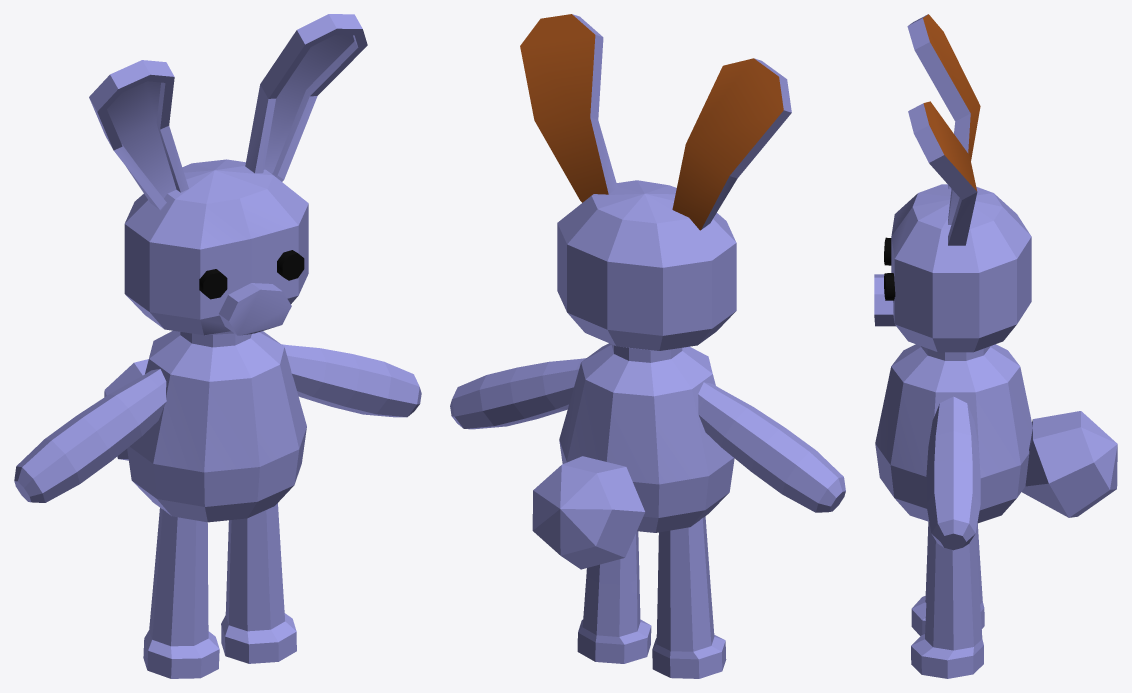
Rendered from Stuffed_Rabbit.fbx.
The picture shows the model from 3 angles, left to right: view 1: azimuth 30°, elevation 25°; view 2: azimuth 150°, elevation 25°; view 3: azimuth 270°, elevation 25°; orthographic projection. The views are drawn at different scales.
Visible parts, largest first — view 1: Stuffed_Rabbit; view 2: Stuffed_Rabbit; view 3: Stuffed_Rabbit.
Part boxes in pixels (x1=…): Stuffed_Rabbit: x1=14, y1=14, x2=421, y2=678; Stuffed_Rabbit: x1=450, y1=14, x2=845, y2=678; Stuffed_Rabbit: x1=874, y1=14, x2=1117, y2=678.
Bounding box in the file's own units: 29.07 × 16.4 × 43.67.
